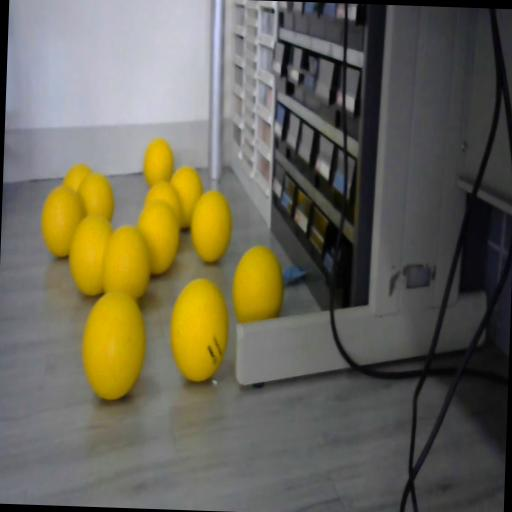FUEL: (79, 288, 147, 398), (167, 274, 231, 382), (230, 243, 284, 324), (99, 224, 152, 300), (38, 183, 86, 258), (188, 188, 234, 262), (76, 171, 115, 223), (142, 180, 184, 228), (142, 137, 174, 187)
